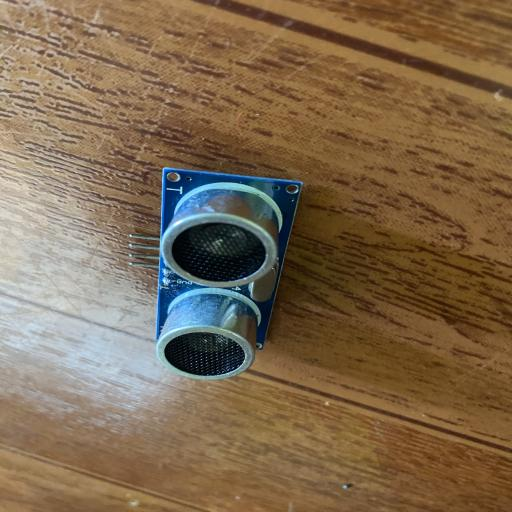Ultrasonic Sensor: (125, 166, 305, 381)
